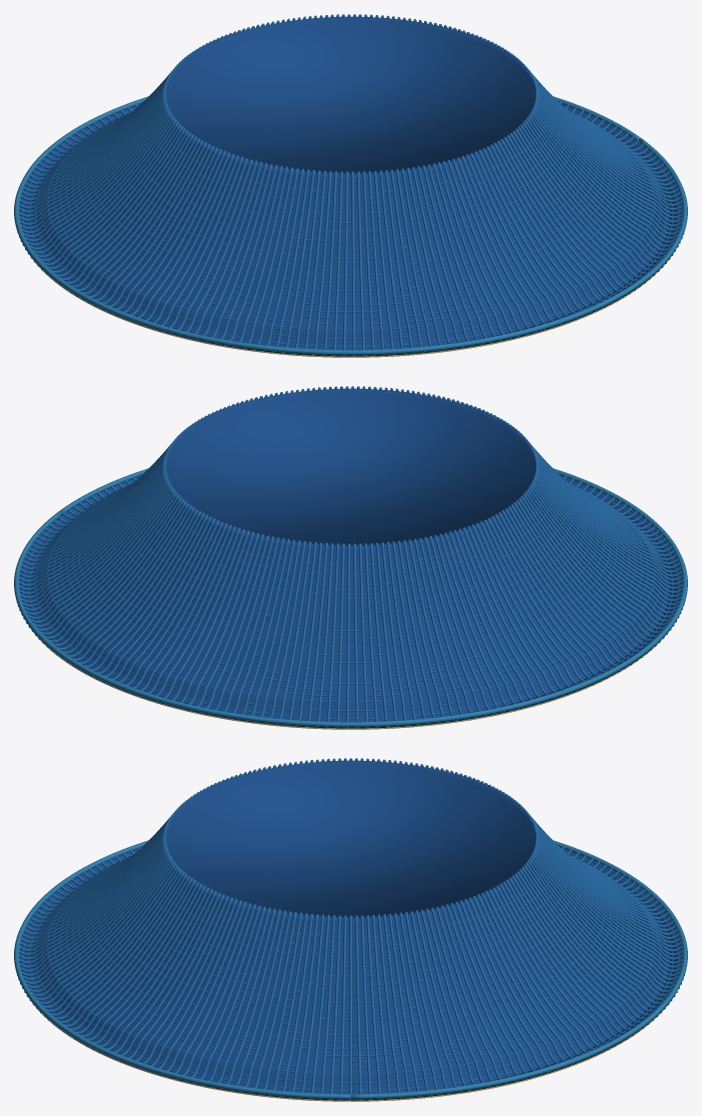
Rendered from SM_15_Roof_2.fbx.
The picture shows the model from 3 angles, top to bottom: view 1: azimuth 30°, elevation 25°; view 2: azimuth 150°, elevation 25°; view 3: azimuth 270°, elevation 25°; orthographic projection.
Parts seen in each view (by area): view 1: Roof_2; view 2: Roof_2; view 3: Roof_2.
Boxes of the visible parts, box(x1,y1,x2,y2) form: Roof_2: box(14, 14, 687, 357); Roof_2: box(14, 386, 687, 729); Roof_2: box(14, 758, 687, 1101).
Size of the model in its own units: 2621 by 2621 by 531.
